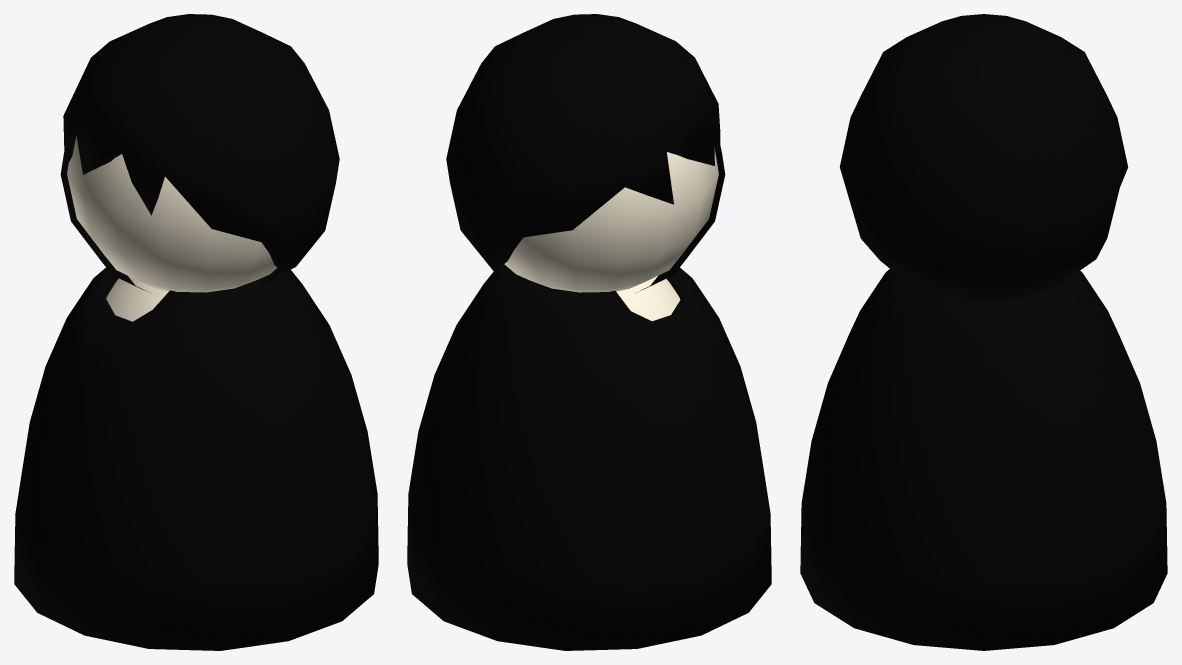
The model's file is Kid_03.fbx.
3 renders of one model, left to right at view 1: azimuth 30°, elevation 25°; view 2: azimuth 150°, elevation 25°; view 3: azimuth 270°, elevation 25°, orthographic.
Parts seen in each view (by area): view 1: Kid_03; view 2: Kid_03; view 3: Kid_03.
Boxes of the visible parts, x1,y1,x2,y2 form: Kid_03: (14, 14, 378, 650); Kid_03: (407, 14, 771, 650); Kid_03: (800, 14, 1167, 650).
Bounding box in the file's own units: 69.27 × 114 × 69.27.
